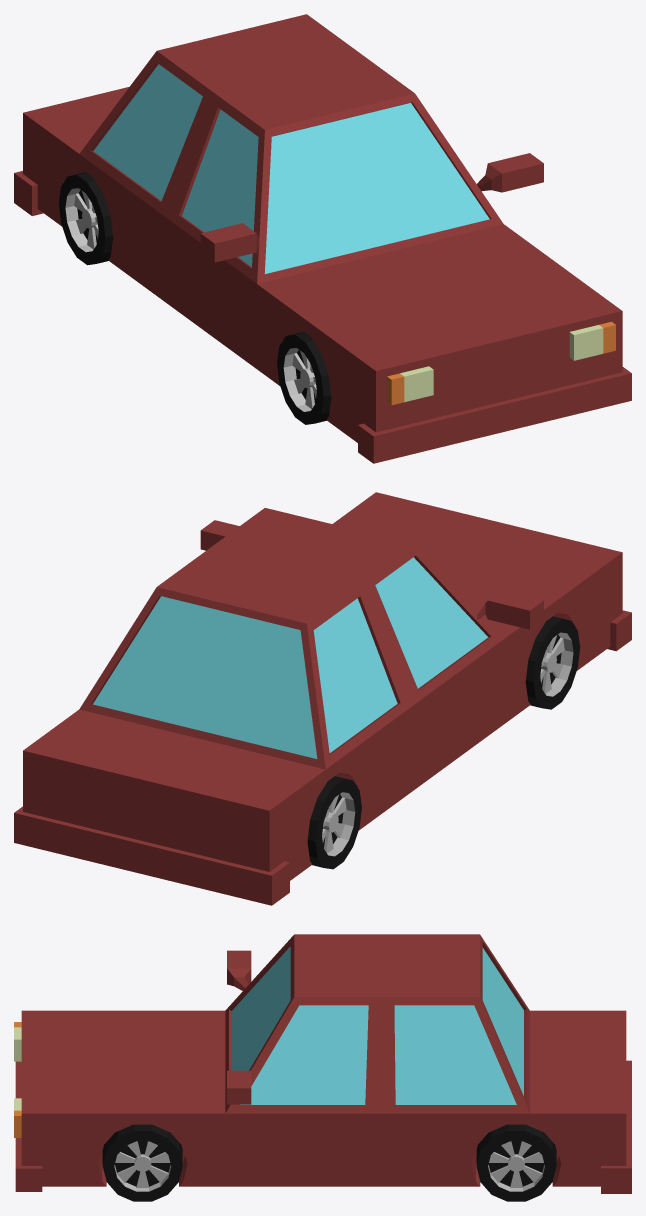
Rendered from red car.fbx.
The picture shows the model from 3 angles, top to bottom: view 1: azimuth 30°, elevation 25°; view 2: azimuth 150°, elevation 25°; view 3: azimuth 270°, elevation 25°; orthographic projection. The views are drawn at different scales.
Visible parts, largest first — view 1: Cube, Cylinder.001, Cylinder.003, Cube.002, Cube.001; view 2: Cube, Cylinder.001, Cylinder.003, Cube.002; view 3: Cube, Cylinder.003, Cylinder.001, Cube.002, Cube.001.
Part boxes in pixels (left/top/right/bottom): Cube: left=14, top=14, right=631, bottom=463; Cylinder.001: left=277, top=332, right=331, bottom=424; Cylinder.003: left=58, top=172, right=113, bottom=265; Cube.002: left=200, top=153, right=543, bottom=262; Cube.001: left=387, top=321, right=615, bottom=405; Cube: left=14, top=492, right=631, bottom=905; Cylinder.001: left=525, top=616, right=580, bottom=709; Cylinder.003: left=307, top=776, right=361, bottom=869; Cube.002: left=200, top=520, right=543, bottom=629; Cube: left=15, top=934, right=631, bottom=1193; Cylinder.003: left=476, top=1124, right=556, bottom=1201; Cylinder.001: left=102, top=1124, right=182, bottom=1201; Cube.002: left=227, top=950, right=251, bottom=1104; Cube.001: left=14, top=1022, right=21, bottom=1137.
Bounding box in the file's own units: 341 × 211 × 647.
